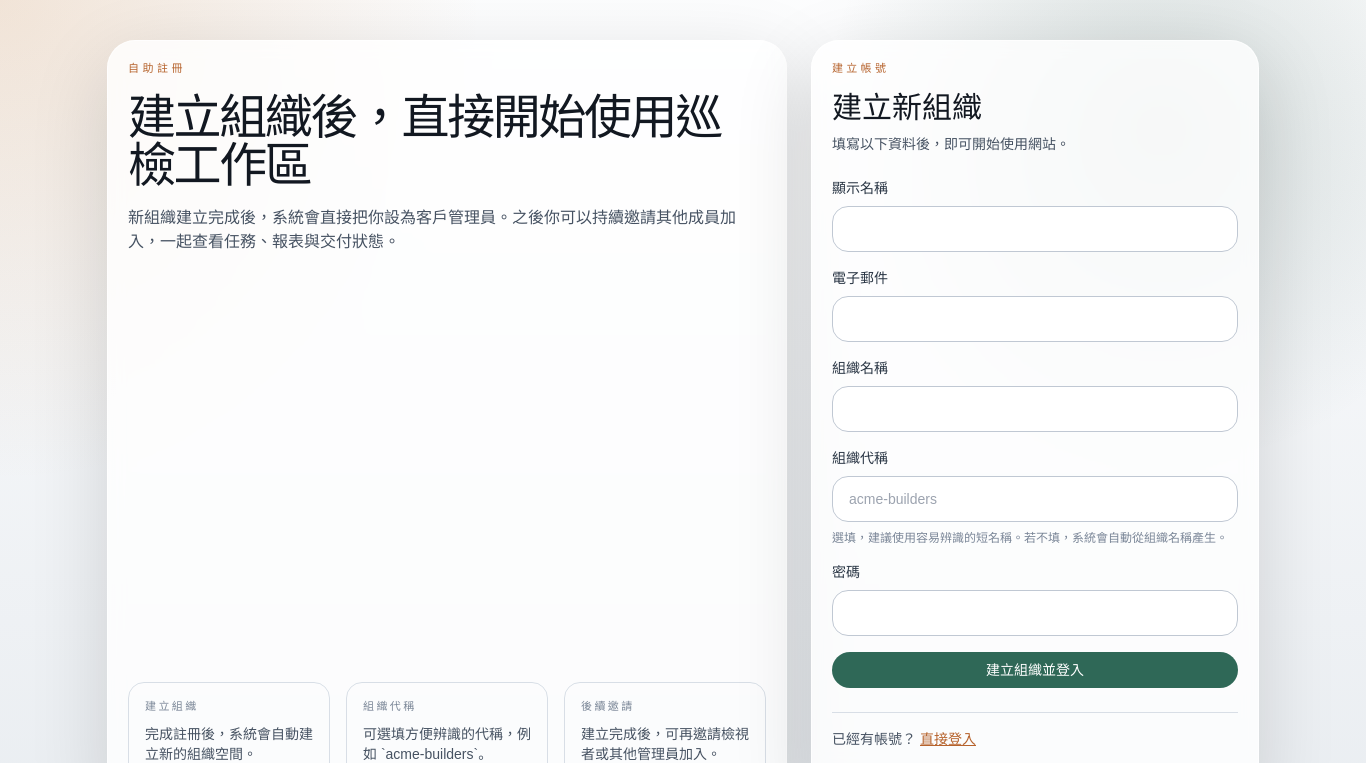
Test: SignupPage › shows validation errors for invalid signup input
In the field labelled "電子郵件": (1035, 318) [832,296,1238,342], type "invalid-email"
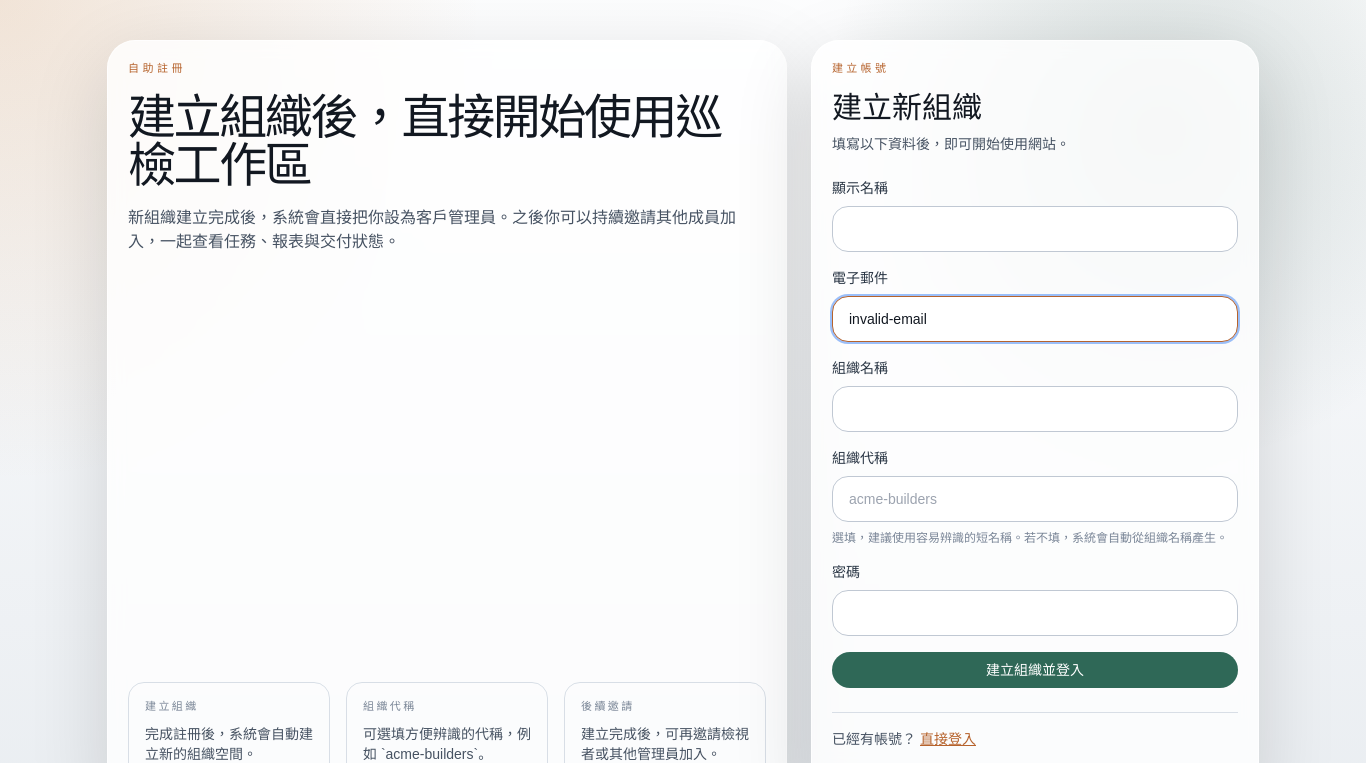
In the password field labelled "密碼": (1035, 612) [832,590,1238,636], type "123"
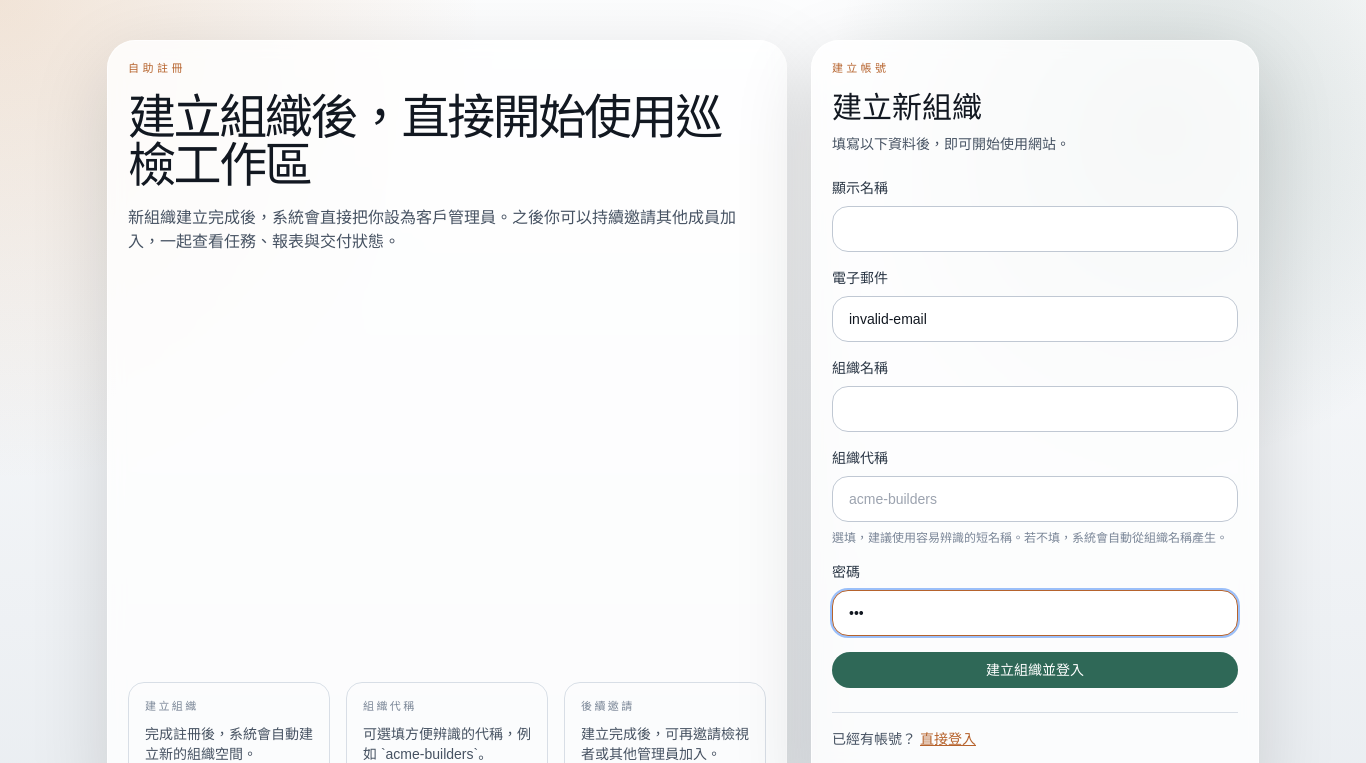
In the field with placeholder "acme-builders": (1035, 498) [832,476,1238,522], type "Bad Slug"
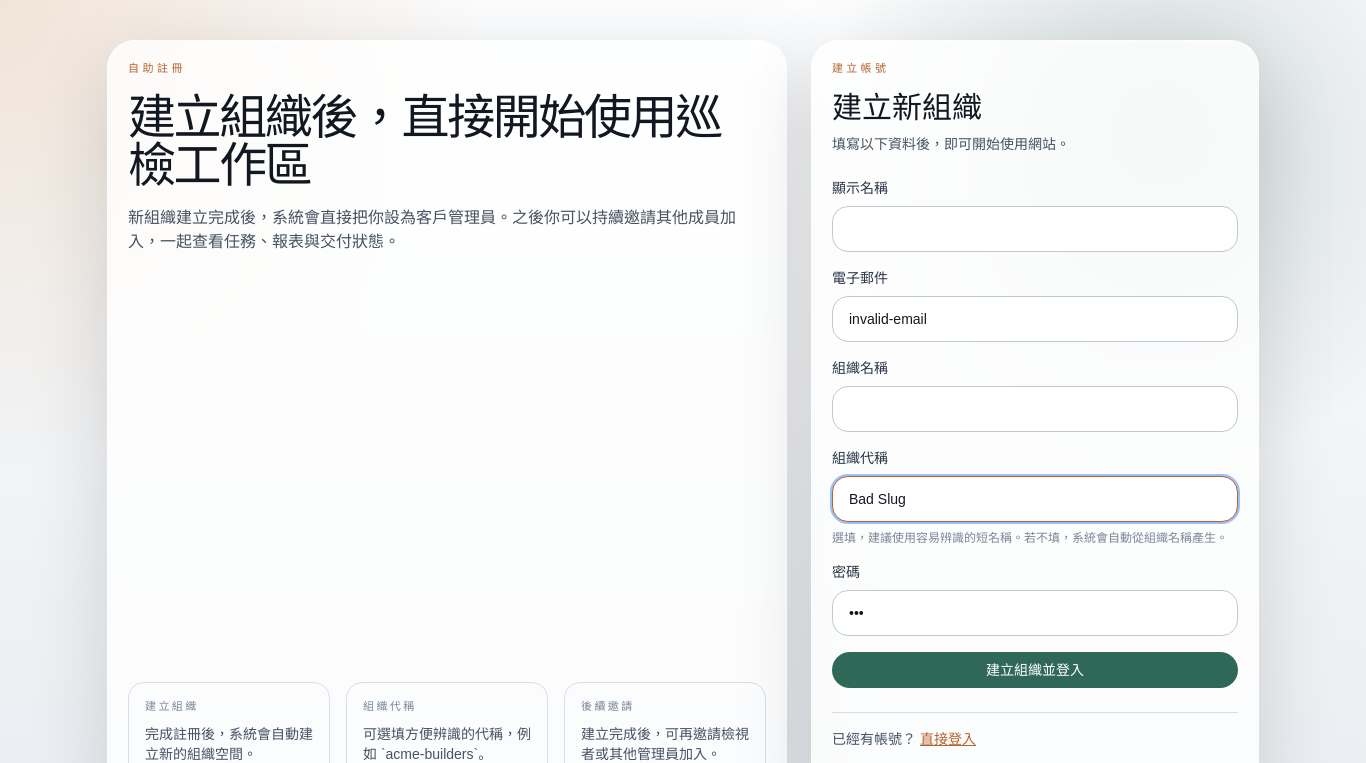
Click the button "建立組織並登入": (1035, 670) [832,652,1238,688]
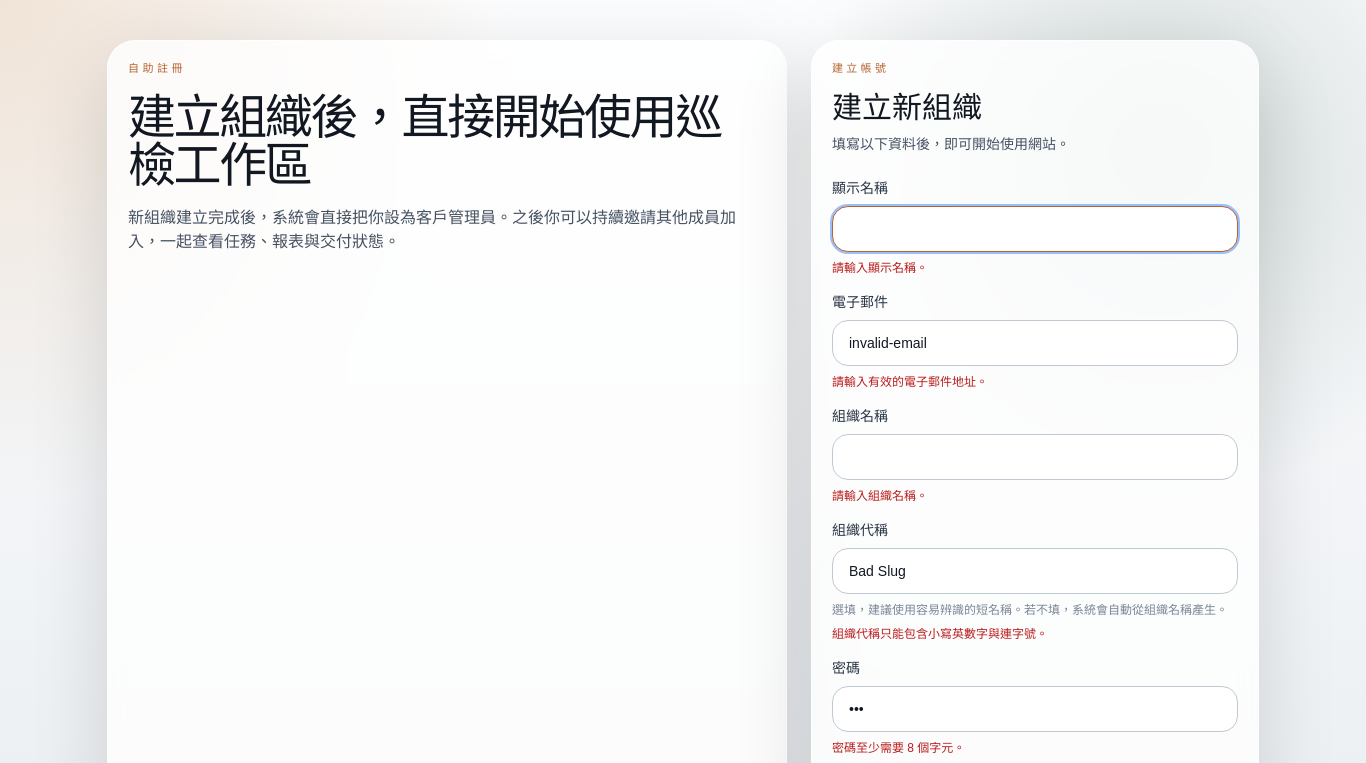
expect the text "請輸入顯示名稱。" is shown: met, box [832,260,928,274]
expect the text "請輸入有效的電子郵件地址。" is shown: met, box [832,374,988,388]
expect the text "密碼至少需要 8 個字元。" is shown: met, box [832,740,965,754]
